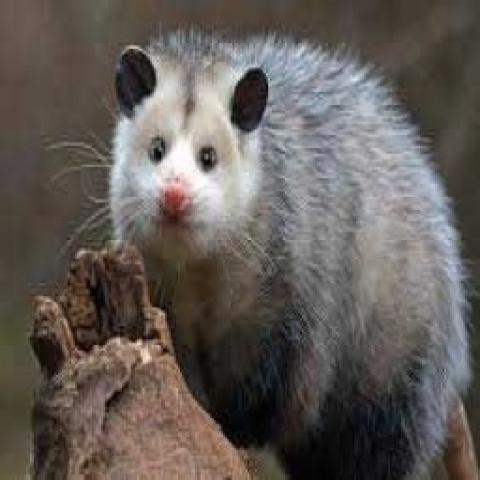small_animal: (108, 25, 478, 480)
